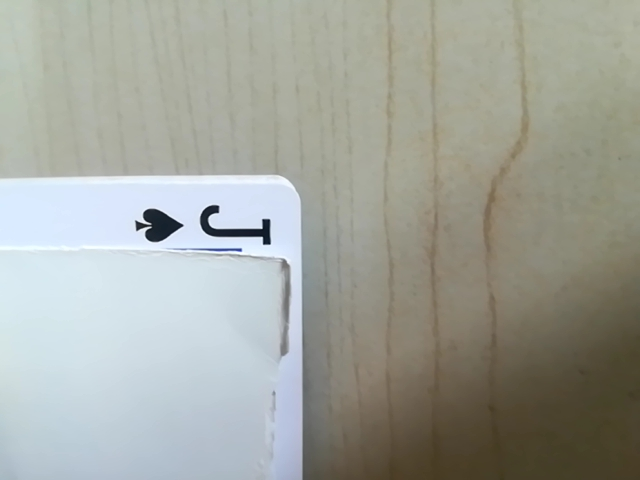ht j: (116, 187, 298, 271)
